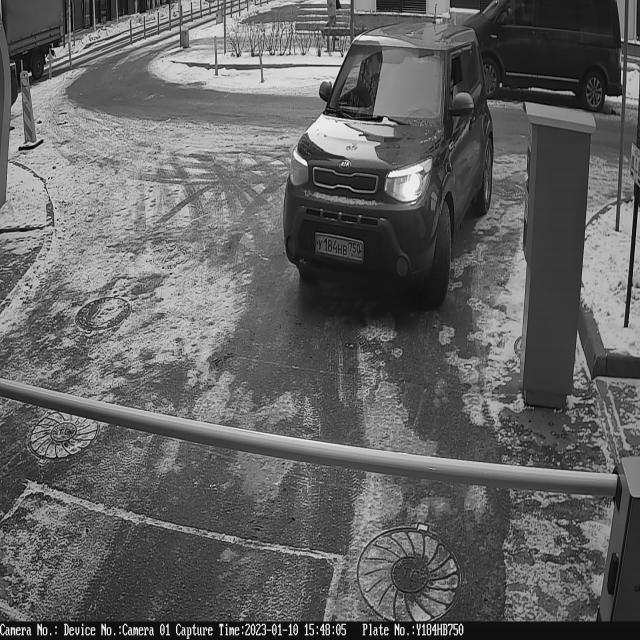car-plate-numbers: (314, 228, 367, 265)
